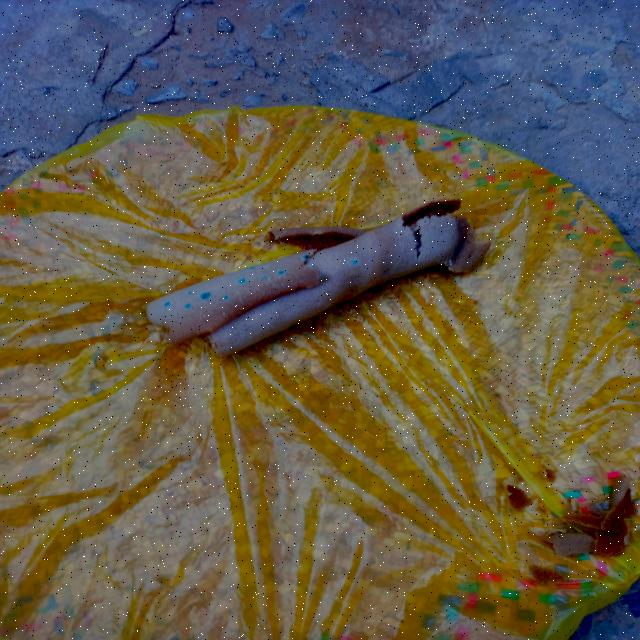injera_mold: (199, 291, 213, 299), (302, 254, 310, 262), (276, 270, 288, 275), (183, 303, 193, 309), (350, 259, 360, 264), (238, 278, 248, 283), (317, 273, 325, 279), (314, 230, 323, 235), (164, 302, 171, 308), (448, 259, 453, 267), (260, 275, 269, 279), (223, 294, 229, 300), (312, 248, 319, 252), (274, 238, 278, 243), (221, 312, 227, 315), (247, 267, 255, 269), (202, 315, 207, 318), (311, 266, 317, 268), (269, 278, 272, 282), (262, 292, 265, 295), (188, 292, 192, 294), (284, 276, 287, 278), (274, 277, 276, 280), (278, 276, 280, 278), (254, 289, 258, 290), (283, 283, 283, 287)
